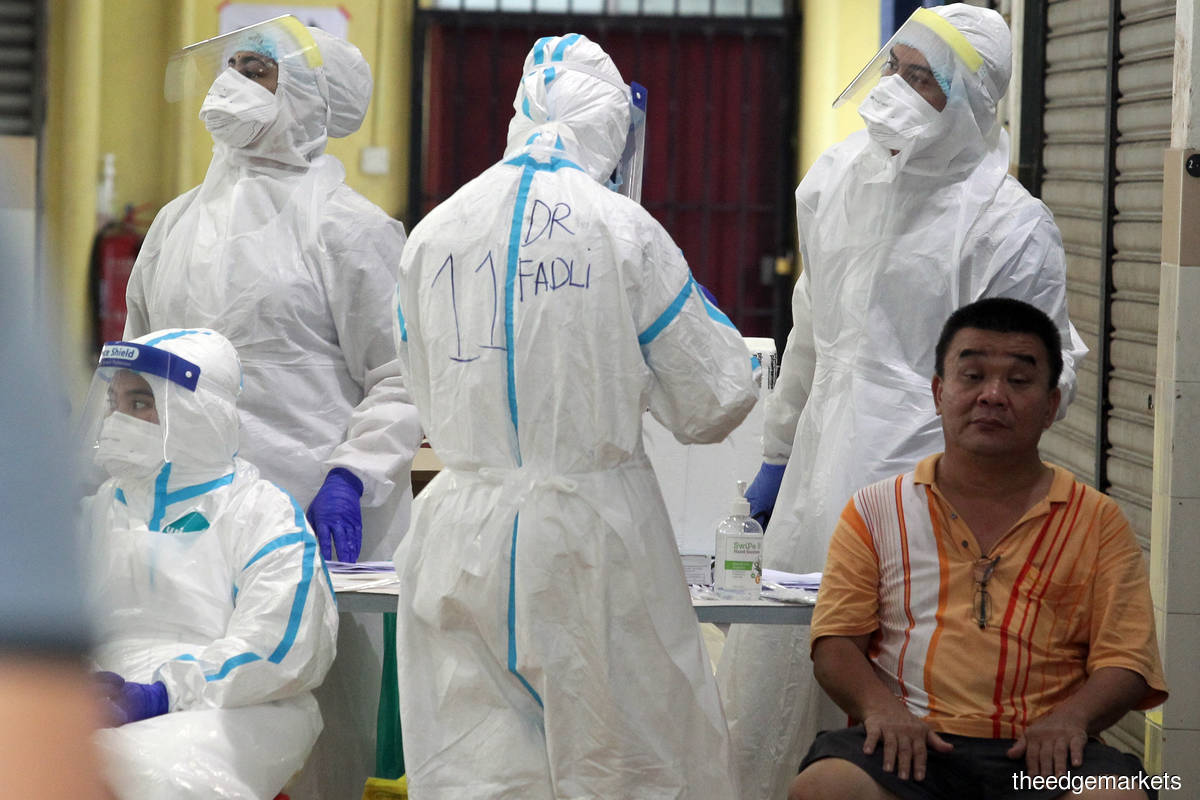Coverall: (702, 4, 1103, 800), (388, 29, 763, 800), (102, 1, 435, 720), (85, 317, 350, 800)
Face_Shield: (77, 337, 196, 514), (829, 6, 983, 132), (167, 8, 325, 112), (595, 81, 664, 203)
Gloves: (720, 439, 789, 559), (294, 457, 368, 568), (71, 662, 177, 727)
with_mask: (859, 41, 941, 170), (95, 365, 166, 495), (190, 48, 278, 149)
without_mask: (941, 338, 1048, 463)
